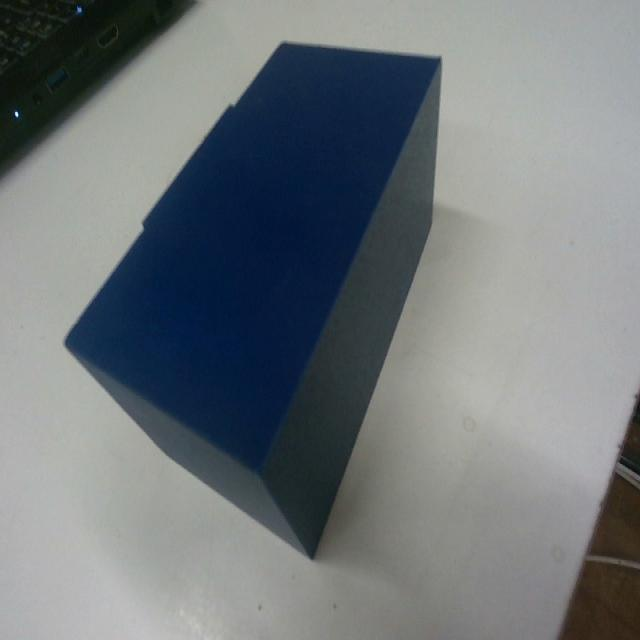Blue Cuboid: (62, 37, 443, 559)
